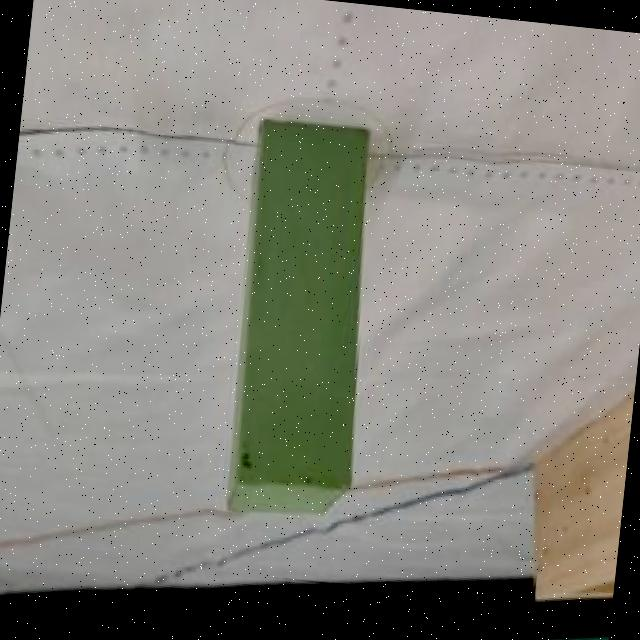greenbox: (212, 105, 392, 533)
